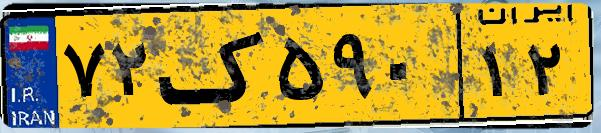0: (385, 28, 445, 110)
1: (475, 38, 525, 113)
2: (525, 38, 570, 115), (110, 28, 158, 98)
5: (270, 28, 330, 110)
7: (57, 26, 110, 100)
9: (330, 28, 385, 110)
ک: (158, 12, 270, 120)
